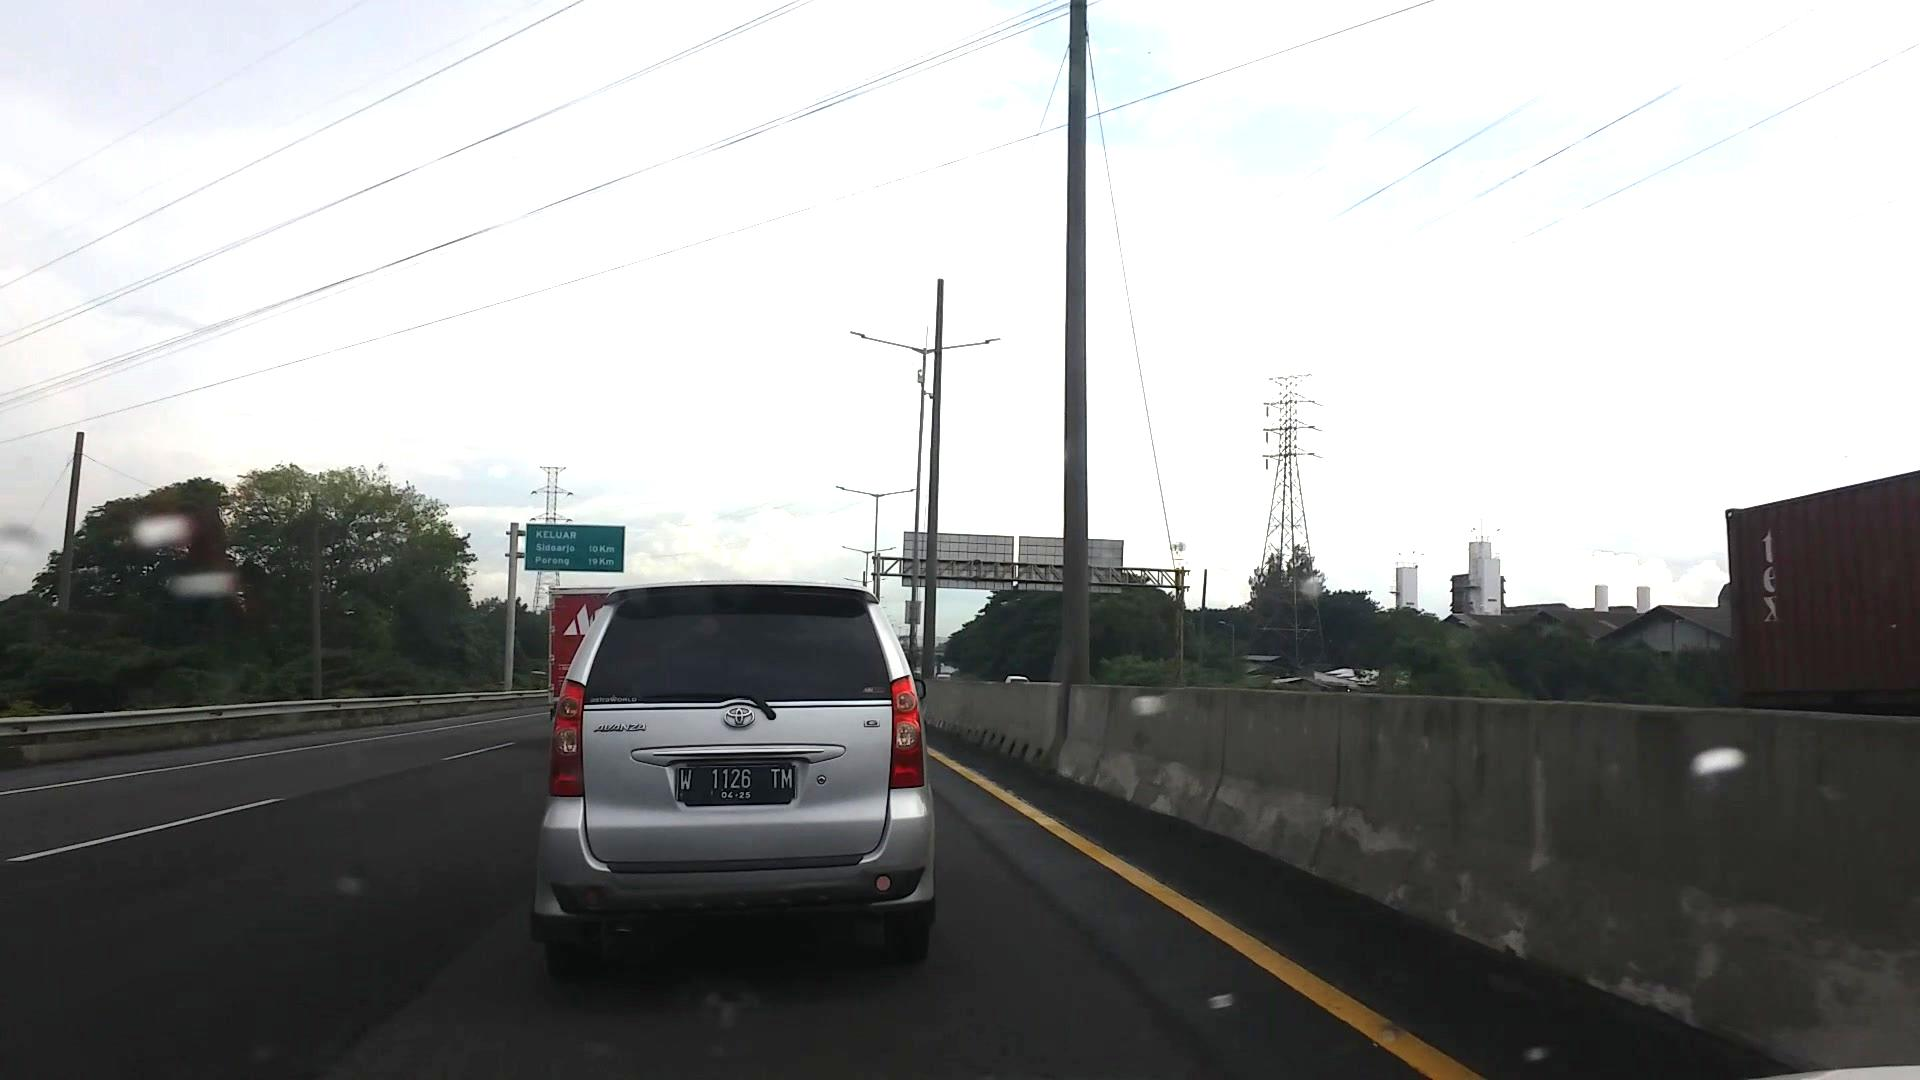plate_positive: (675, 764, 796, 804)
